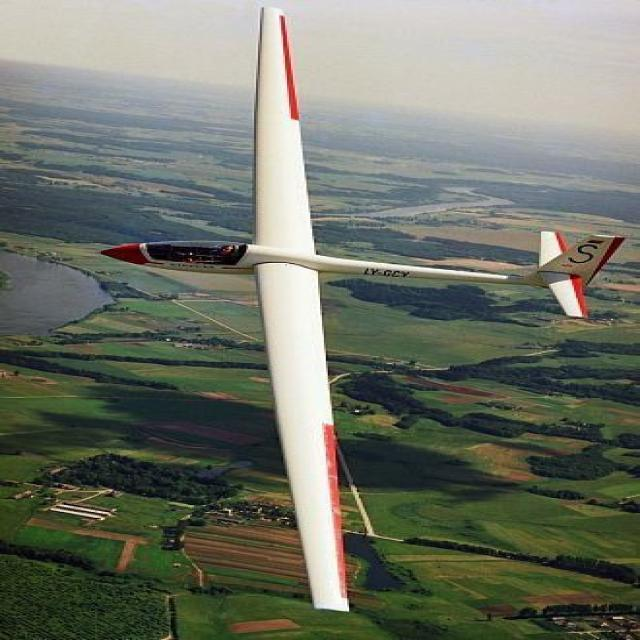iha: (99, 6, 627, 614)
